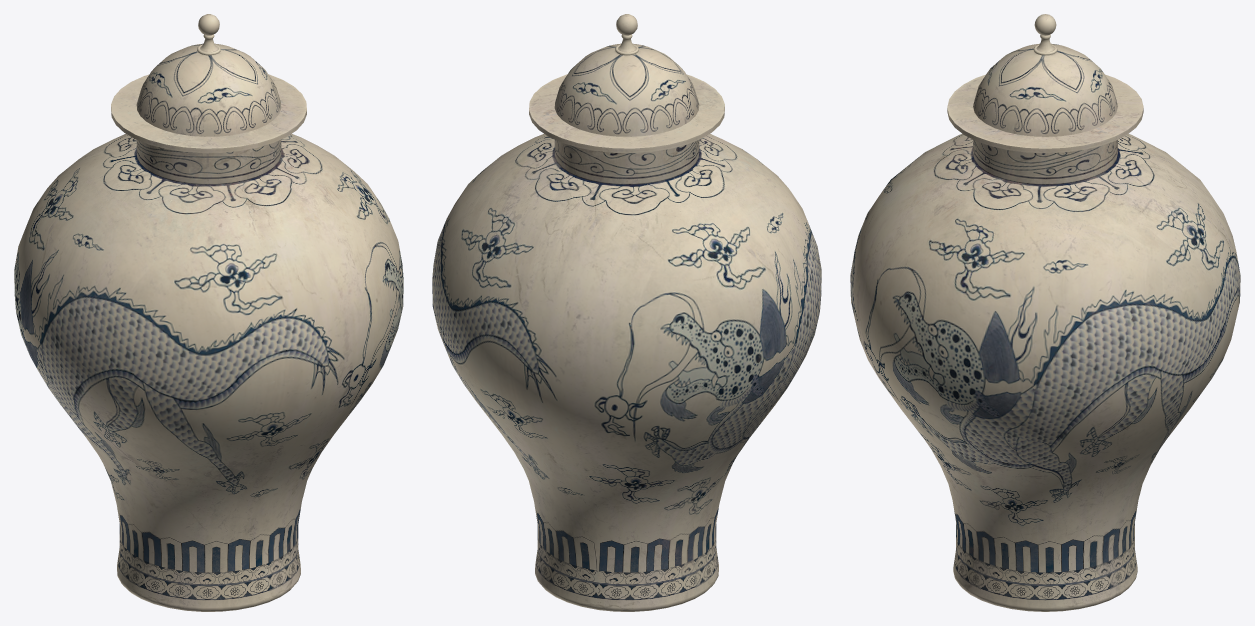
Rendered from yongjun.glb.
3 views of the same model, side by side, from view 1: azimuth 30°, elevation 25°; view 2: azimuth 150°, elevation 25°; view 3: azimuth 270°, elevation 25° (orthographic).
Parts seen in each view (by area): view 1: Yongjun; view 2: Yongjun; view 3: Yongjun.
Boxes of the visible parts, x1=… form: Yongjun: x1=14, y1=14, x2=403, y2=611; Yongjun: x1=432, y1=14, x2=821, y2=611; Yongjun: x1=850, y1=14, x2=1240, y2=611.
Size of the model in its own units: 0.2659 by 0.4211 by 0.2659.
1 material, 1 textured.
